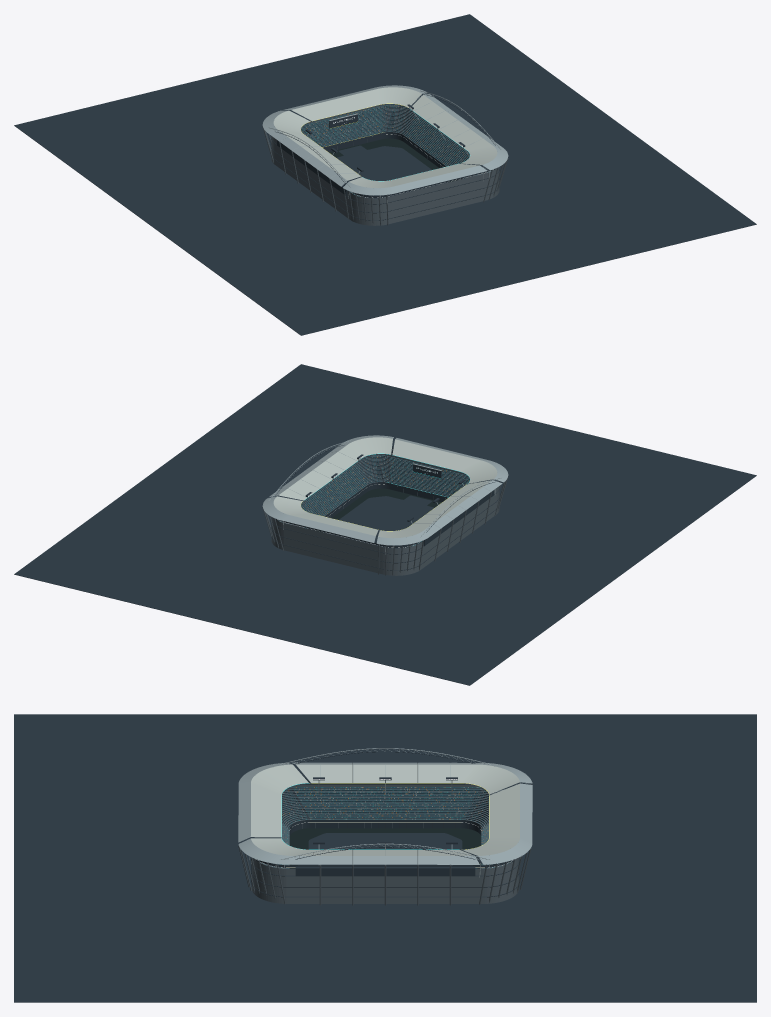
The model's file is stadium.glb.
The picture shows the model from 3 angles, top to bottom: view 1: azimuth 30°, elevation 25°; view 2: azimuth 150°, elevation 25°; view 3: azimuth 270°, elevation 25°; orthographic projection. The views are drawn at different scales.
Parts seen in each view (by area): view 1: Concourse facade / Basalt, Roof and lighting / Canopy, Concourse facade / Concrete, Seating bowl / Basalt, Roof and lighting / Titanium, Seating bowl / Inner fascia, Seating bowl / Tier deck, Seating bowl / Seat petrol, Roof and lighting / Concrete, Field apron / Apron, Seating bowl / Seat teal, Roof and lighting / Basalt (+1 smaller); view 2: Concourse facade / Basalt, Roof and lighting / Canopy, Concourse facade / Concrete, Seating bowl / Basalt, Roof and lighting / Titanium, Seating bowl / Inner fascia, Seating bowl / Tier deck, Seating bowl / Seat petrol, Roof and lighting / Concrete, Field apron / Apron, Seating bowl / Seat teal, Roof and lighting / Basalt (+1 smaller); view 3: Concourse facade / Basalt, Roof and lighting / Canopy, Concourse facade / Concrete, Seating bowl / Basalt, Roof and lighting / Titanium, Seating bowl / Inner fascia, Seating bowl / Tier deck, Seating bowl / Seat petrol, Roof and lighting / Concrete, Field apron / Apron, Field apron / Inner fascia, Seating bowl / Seat teal (+2 smaller).
Part boxes in pixels (x1,y1,x2,y2): Concourse facade / Basalt: (14, 14, 756, 335); Roof and lighting / Canopy: (273, 87, 497, 188); Concourse facade / Concrete: (271, 104, 499, 225); Seating bowl / Basalt: (252, 140, 518, 234); Roof and lighting / Titanium: (262, 85, 508, 203); Seating bowl / Inner fascia: (301, 105, 472, 179); Seating bowl / Tier deck: (301, 105, 490, 195); Seating bowl / Seat petrol: (301, 104, 489, 196); Roof and lighting / Concrete: (262, 89, 508, 225); Field apron / Apron: (329, 138, 455, 197); Seating bowl / Seat teal: (302, 104, 488, 172); Roof and lighting / Basalt: (275, 93, 495, 193); Concourse facade / Basalt: (14, 364, 756, 685); Roof and lighting / Canopy: (273, 437, 497, 538); Concourse facade / Concrete: (271, 449, 499, 575); Seating bowl / Basalt: (252, 447, 518, 584); Roof and lighting / Titanium: (262, 435, 508, 554); Seating bowl / Inner fascia: (298, 455, 469, 529); Seating bowl / Tier deck: (277, 455, 469, 545); Seating bowl / Seat petrol: (278, 454, 469, 546); Roof and lighting / Concrete: (262, 435, 508, 575); Field apron / Apron: (315, 488, 441, 547); Seating bowl / Seat teal: (301, 455, 469, 545); Roof and lighting / Basalt: (269, 437, 503, 542); Concourse facade / Basalt: (14, 714, 756, 1002); Roof and lighting / Canopy: (250, 764, 520, 855); Concourse facade / Concrete: (251, 784, 519, 903); Seating bowl / Basalt: (229, 775, 541, 913); Roof and lighting / Titanium: (238, 748, 532, 877); Seating bowl / Inner fascia: (282, 788, 488, 829); Seating bowl / Tier deck: (260, 787, 512, 868); Seating bowl / Seat petrol: (265, 787, 508, 868); Roof and lighting / Concrete: (238, 762, 532, 905); Field apron / Apron: (289, 828, 481, 868); Field apron / Inner fascia: (289, 822, 481, 835); Seating bowl / Seat teal: (262, 787, 493, 868).
Bounding box in the file's own units: 440 × 44.73 × 480.
